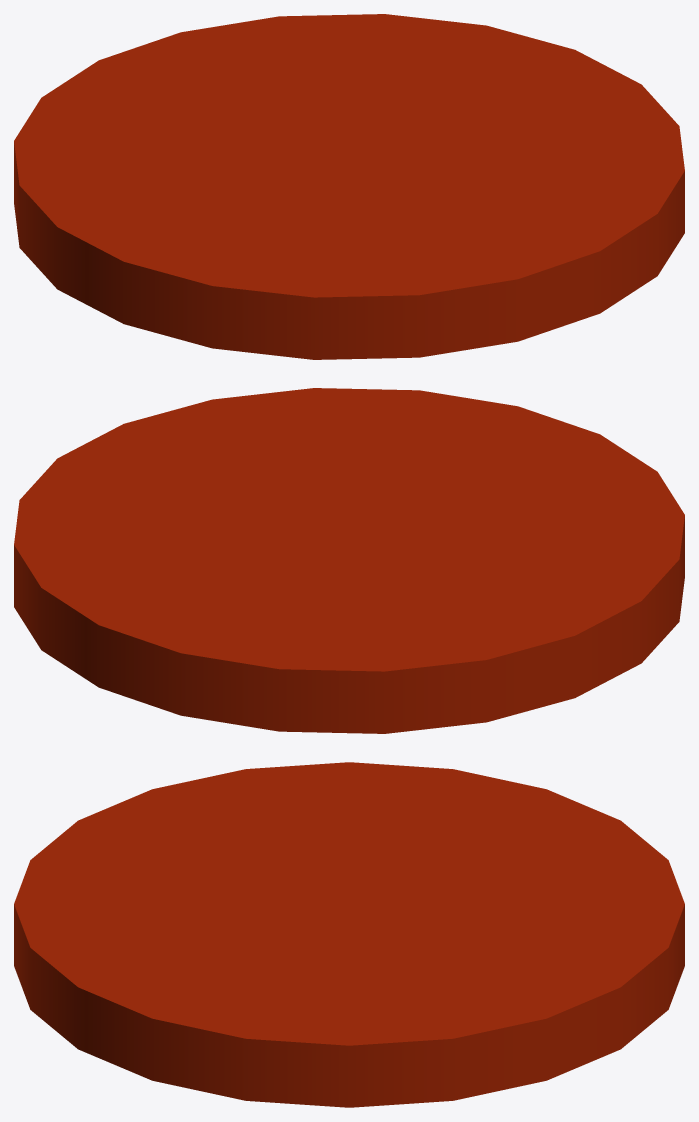
The model's file is Pepperoni.fbx.
3 views of the same model, one above another, from view 1: azimuth 30°, elevation 25°; view 2: azimuth 150°, elevation 25°; view 3: azimuth 270°, elevation 25° (orthographic).
Parts seen in each view (by area): view 1: Pepperoni_Topping; view 2: Pepperoni_Topping; view 3: Pepperoni_Topping.
Part boxes in pixels (left/top/right/bottom): Pepperoni_Topping: left=14, top=14, right=684, bottom=359; Pepperoni_Topping: left=14, top=388, right=684, bottom=733; Pepperoni_Topping: left=14, top=762, right=684, bottom=1107.
Size of the model in its own units: 15.52 by 1.58 by 15.52.
